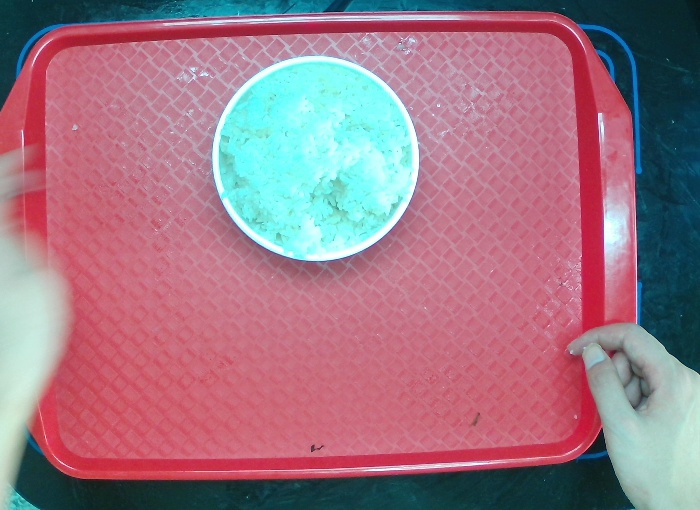YKMZ-Fan_Wan: (213, 53, 419, 262)
